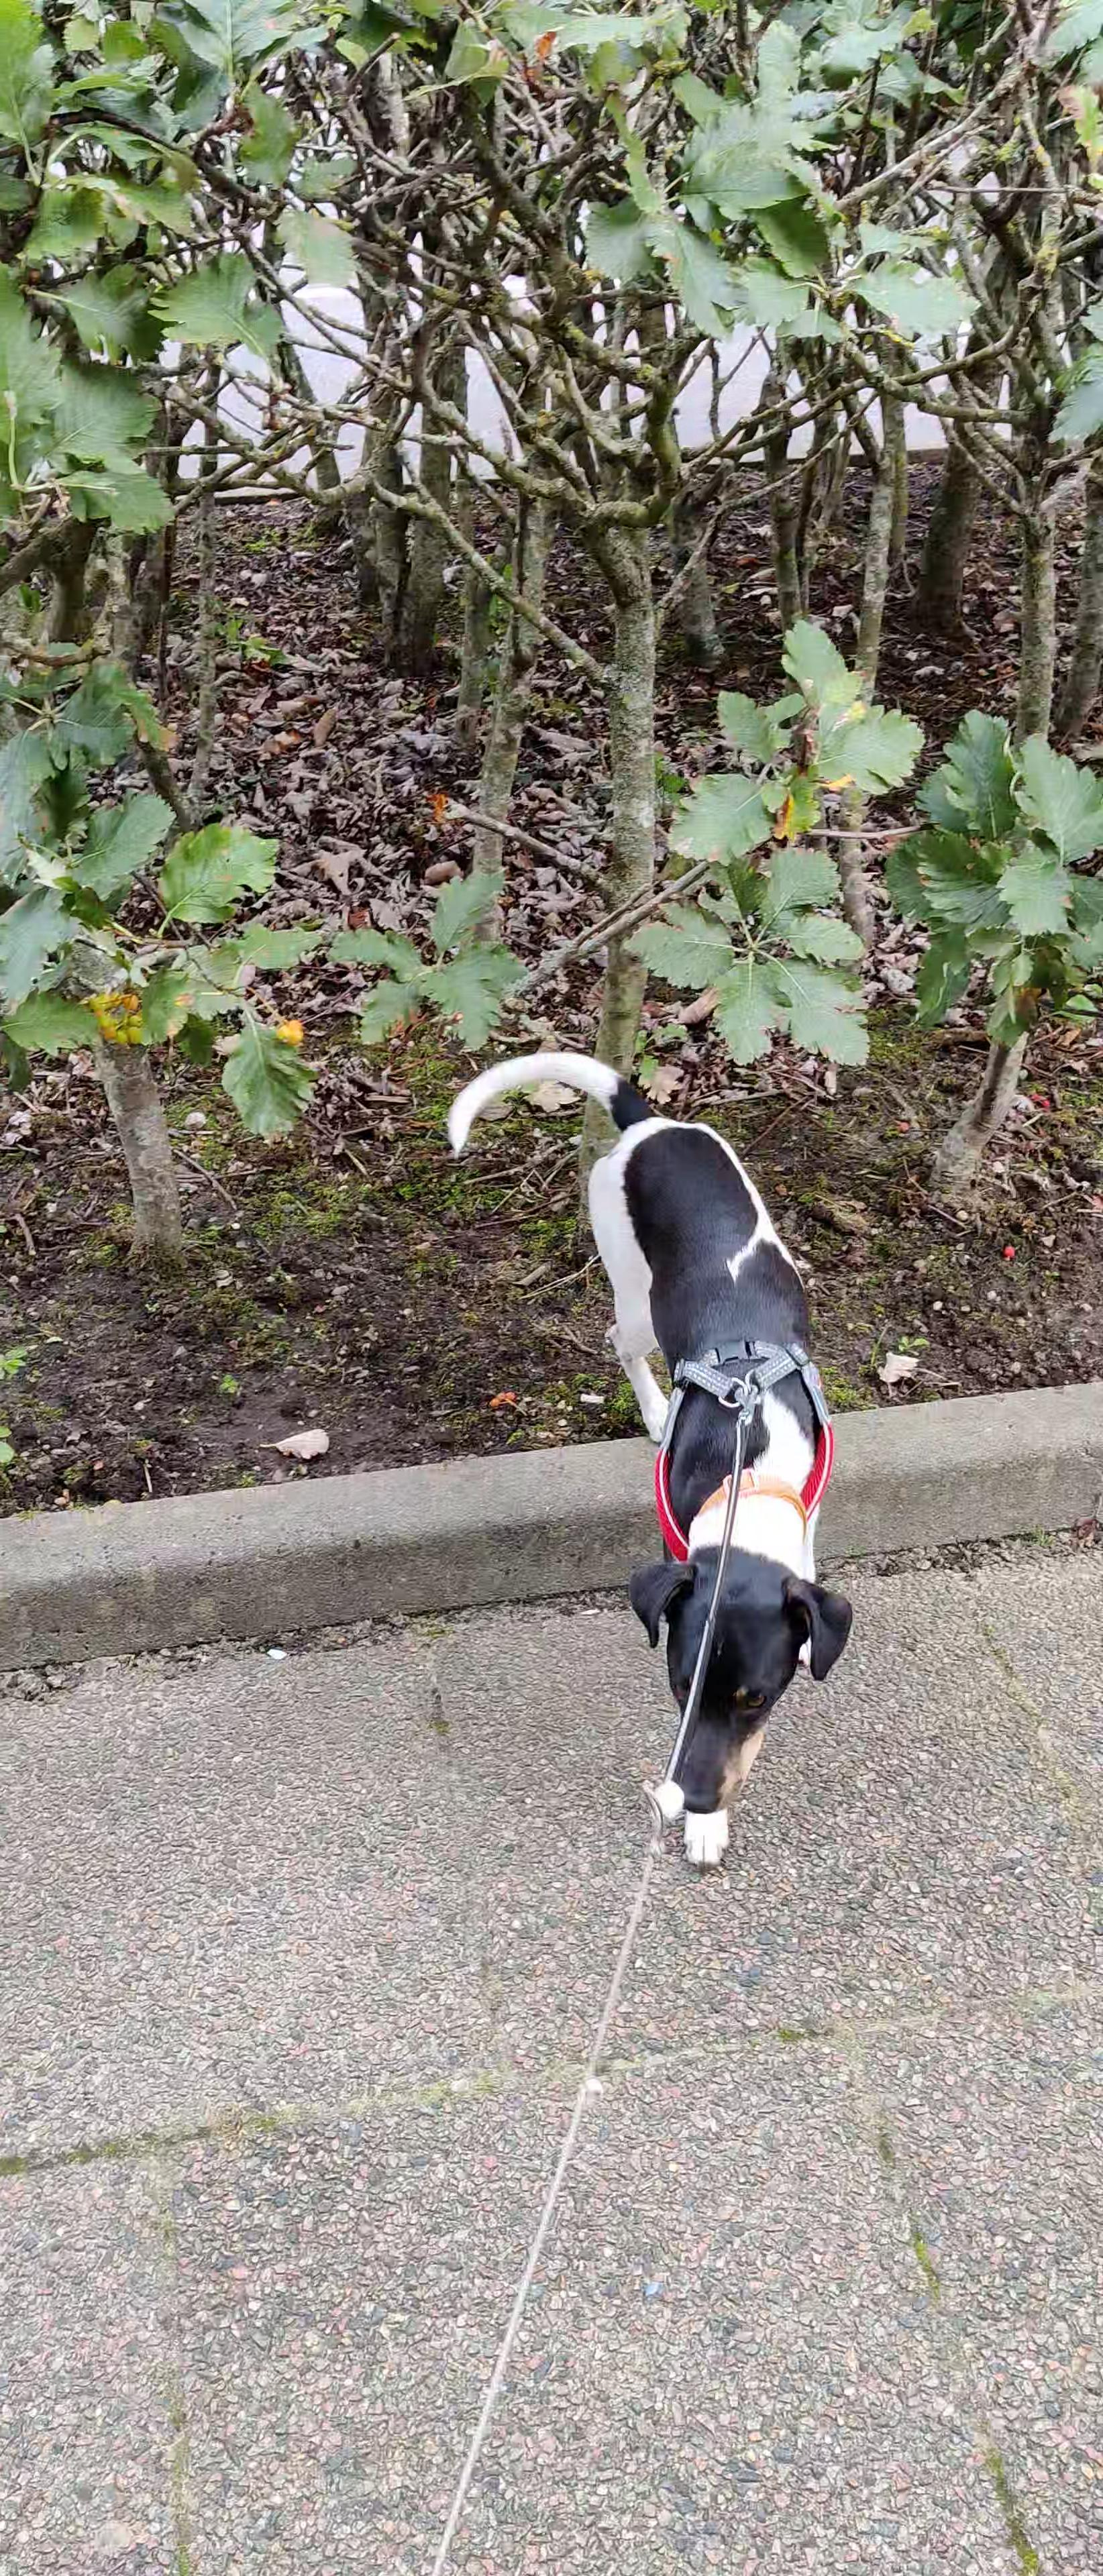Dog: (399, 1028, 866, 1893)
